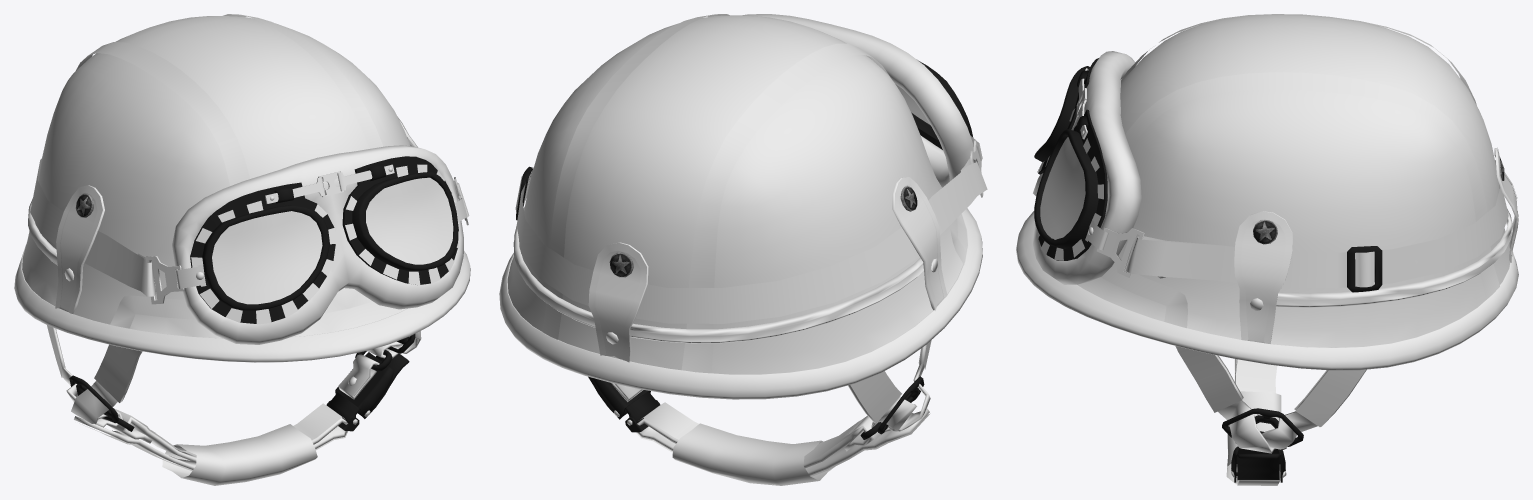
Rendered from NCN.fbx.
3 views of the same model, side by side, from view 1: azimuth 30°, elevation 25°; view 2: azimuth 150°, elevation 25°; view 3: azimuth 270°, elevation 25° (orthographic). The views are drawn at different scales.
Parts seen in each view (by area): view 1: basemesh, strips, ub, basemesh.002, KLEPKI; view 2: basemesh, strips, ub, KLEPKI; view 3: basemesh, strips, ub, KLEPKI, basemesh.002.
Boxes of the visible parts, x1,y1,x2,y2 form: basemesh: (14,16,470,485); strips: (28,14,469,470); ub: (172,145,463,344); basemesh.002: (191,164,459,324); KLEPKI: (64,128,407,424); basemesh: (499,15,983,485); strips: (513,14,987,484); ub: (742,14,973,187); KLEPKI: (606,185,937,425); basemesh: (1016,14,1518,484); strips: (1101,14,1518,485); ub: (1033,51,1141,284); KLEPKI: (1082,130,1504,477); basemesh.002: (1036,69,1103,260).
Bounding box in the file's own units: 195 × 202 × 216.
